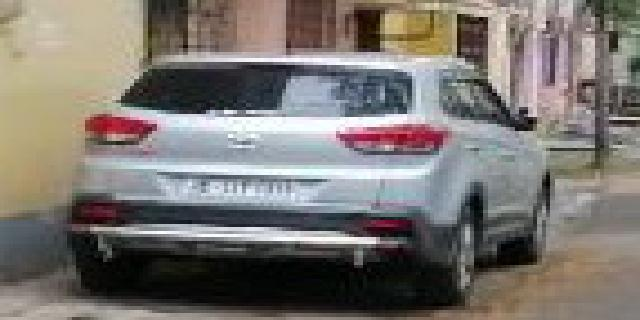Car: (71, 34, 561, 303)
